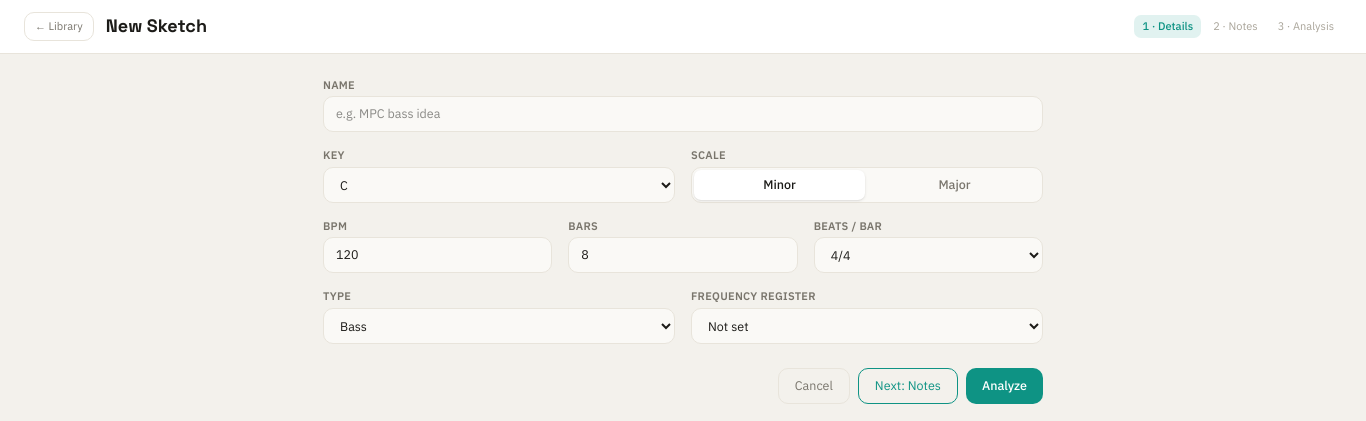
it: SketchWizard — details form › disables Analyze when bars is out of range
Replace the text in the number field labelled "Bars" with "0": (683, 255) [568,238,798,273]
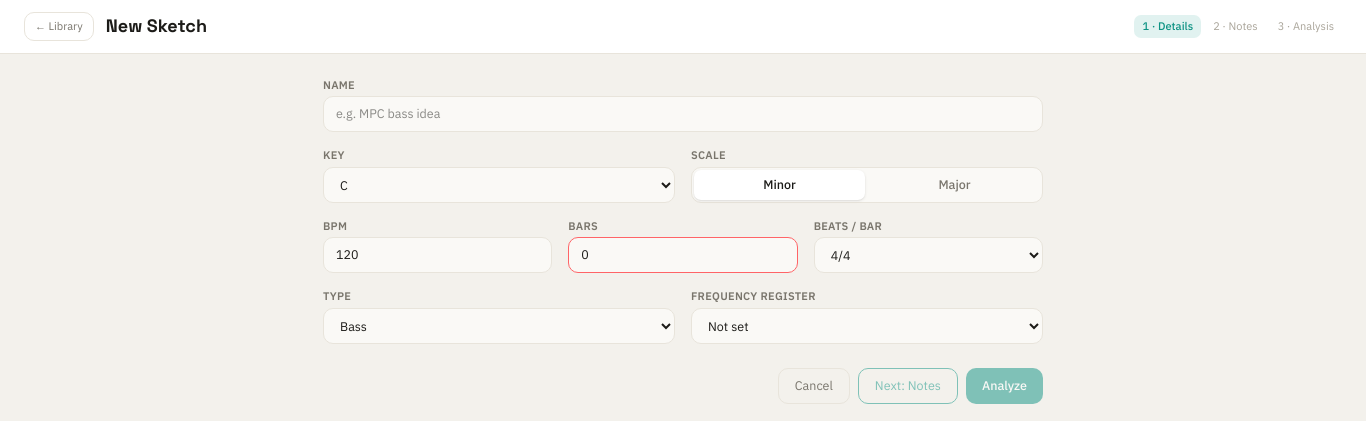
Expected: the button "Analyze" is disabled, [966,368,1043,404]
